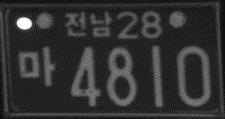0: (176, 44, 213, 109)
1: (150, 42, 166, 108)
2: (116, 9, 138, 40)
4: (69, 46, 101, 108)
8: (106, 45, 139, 107), (139, 9, 162, 41)
마: (16, 46, 57, 86)
전남_O: (64, 9, 114, 38)
